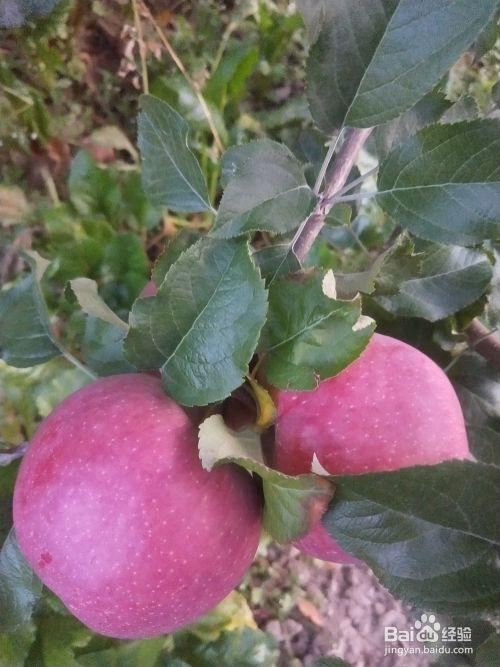apple: (8, 368, 260, 634), (257, 329, 471, 569)
